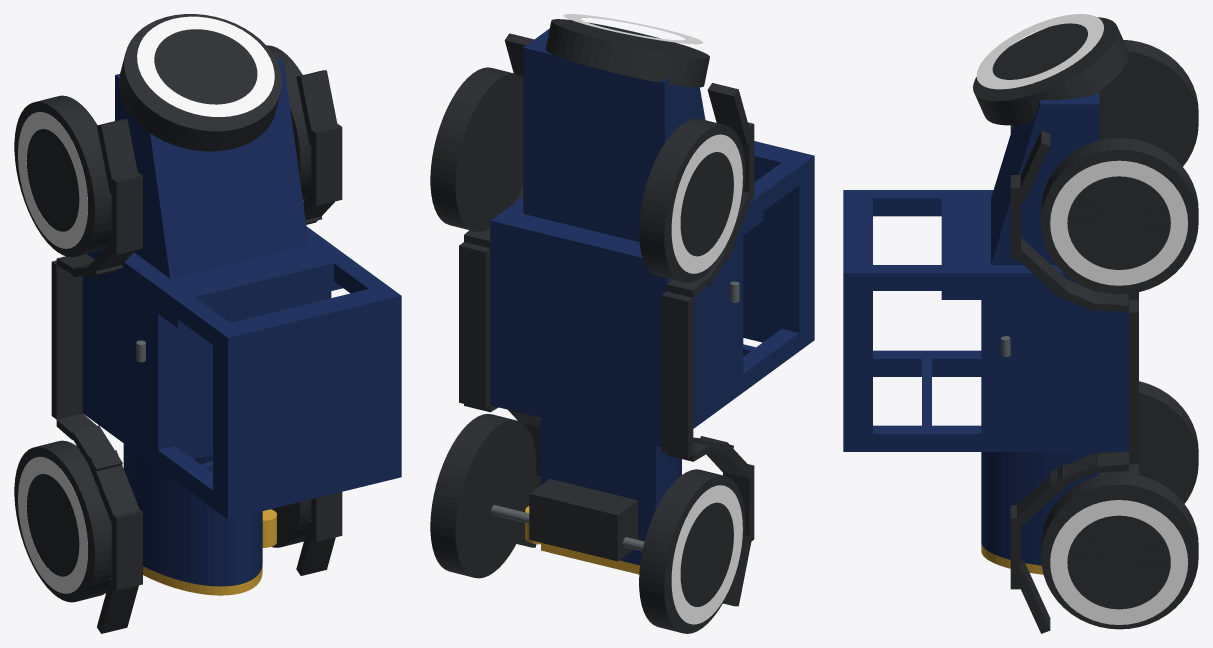
The model's file is tinker.obj.
3 renders of one model, left to right at view 1: azimuth 30°, elevation 25°; view 2: azimuth 150°, elevation 25°; view 3: azimuth 270°, elevation 25°, orthographic. The views are drawn at different scales.
Parts seen in each view (by area): view 1: obj_1, obj_6, obj_8, obj_13, obj_0, obj_17, obj_14, obj_7, obj_47, obj_27, obj_21, obj_20 (+20 smaller); view 2: obj_6, obj_28, obj_15, obj_16, obj_1, obj_14, obj_17, obj_0, obj_36, obj_13, obj_27, obj_34 (+15 smaller); view 3: obj_6, obj_15, obj_16, obj_13, obj_17, obj_1, obj_0, obj_19, obj_18, obj_14, obj_7, obj_8 (+18 smaller).
Boxes of the visible parts, bbox=[...] form: obj_1: bbox=[213, 289, 401, 519]; obj_6: bbox=[82, 226, 331, 467]; obj_8: bbox=[145, 63, 308, 278]; obj_13: bbox=[119, 14, 281, 151]; obj_0: bbox=[123, 443, 262, 586]; obj_17: bbox=[14, 95, 111, 257]; obj_14: bbox=[14, 440, 111, 602]; obj_7: bbox=[124, 248, 342, 328]; obj_47: bbox=[137, 16, 274, 117]; obj_27: bbox=[51, 260, 82, 419]; obj_21: bbox=[18, 456, 87, 593]; obj_20: bbox=[18, 112, 87, 248]; obj_6: bbox=[490, 197, 743, 446]; obj_28: bbox=[523, 28, 694, 241]; obj_15: bbox=[430, 414, 536, 578]; obj_16: bbox=[430, 67, 523, 231]; obj_1: bbox=[743, 141, 814, 350]; obj_14: bbox=[639, 469, 744, 633]; obj_17: bbox=[639, 118, 744, 282]; obj_0: bbox=[541, 418, 681, 565]; obj_36: bbox=[529, 479, 637, 561]; obj_13: bbox=[545, 19, 709, 87]; obj_27: bbox=[661, 291, 693, 458]; obj_34: bbox=[459, 242, 490, 408]; obj_6: bbox=[981, 190, 1128, 451]; obj_15: bbox=[1041, 473, 1198, 629]; obj_16: bbox=[1041, 138, 1198, 294]; obj_13: bbox=[973, 17, 1128, 125]; obj_17: bbox=[1099, 40, 1198, 166]; obj_1: bbox=[843, 190, 872, 451]; obj_0: bbox=[981, 452, 1099, 565]; obj_19: bbox=[1050, 160, 1187, 285]; obj_18: bbox=[1050, 500, 1187, 624]; obj_14: bbox=[1099, 381, 1198, 503]; obj_7: bbox=[941, 190, 1076, 299]; obj_8: bbox=[991, 100, 1040, 264].
Size of the model in its own units: 27 by 62.37 by 36.08.
